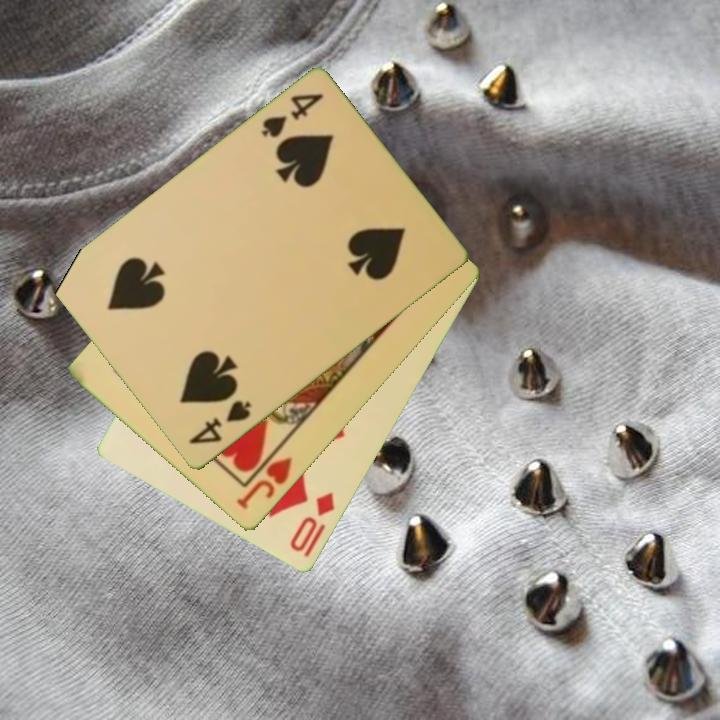10d: (286, 488, 338, 556)
4s: (257, 90, 327, 142), (184, 397, 255, 448)
Jh: (232, 453, 295, 513)
